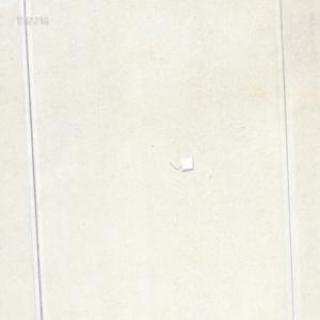LuggageTagtrack_idkeyframe: (166, 155, 193, 172)
